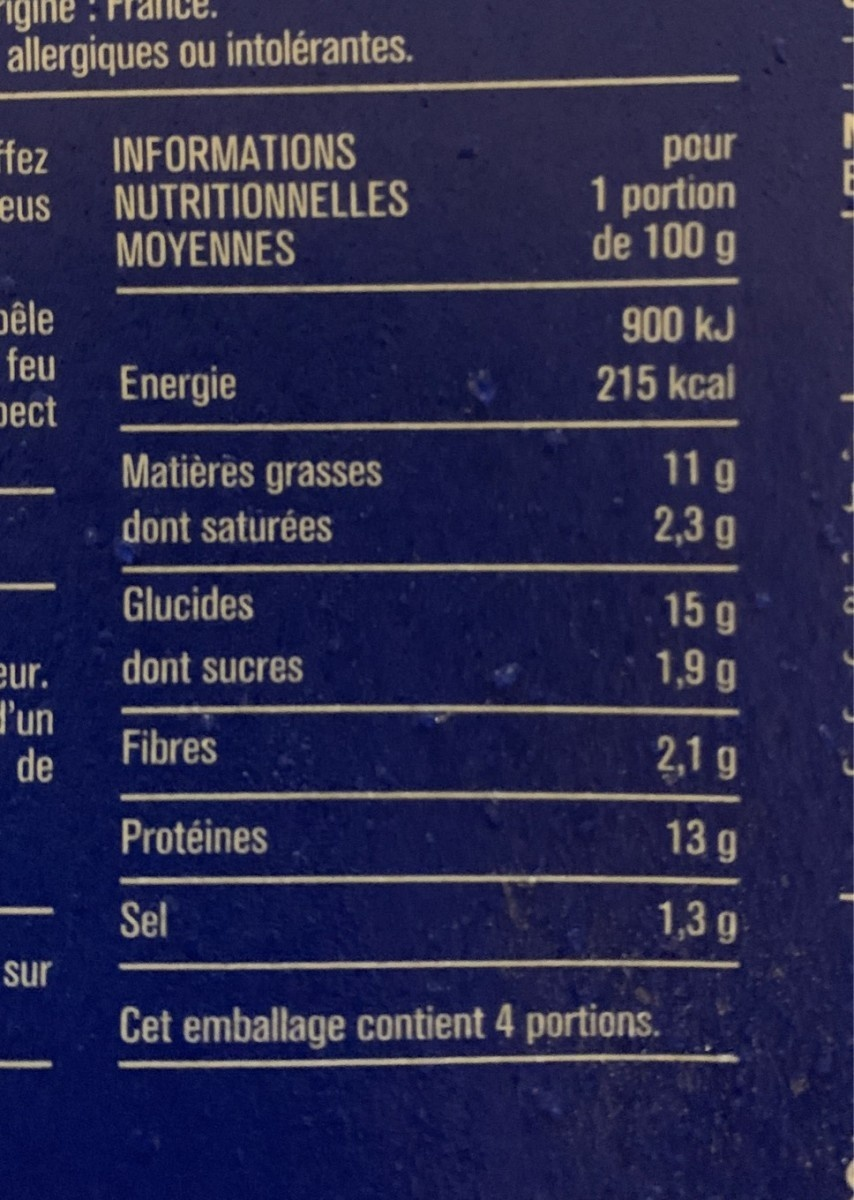column: (117, 136, 408, 954), (586, 135, 741, 950)
table: (110, 130, 751, 959)
